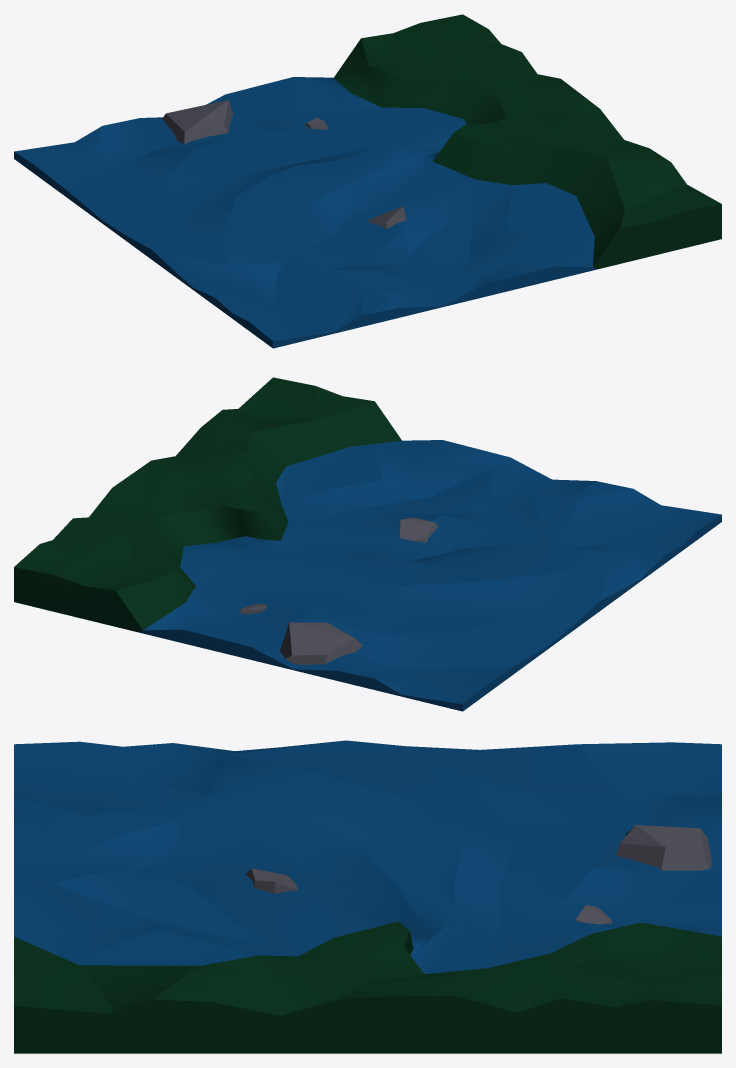
Rendered from Water_Edge_R.fbx.
3 renders of one model, top to bottom at view 1: azimuth 30°, elevation 25°; view 2: azimuth 150°, elevation 25°; view 3: azimuth 270°, elevation 25°, orthographic. The views are drawn at different scales.
Visible parts, largest first — view 1: Water_Edge_R; view 2: Water_Edge_R; view 3: Water_Edge_R.
Boxes of the visible parts, box(x1,y1,x2,y2) form: Water_Edge_R: box(14, 14, 721, 348); Water_Edge_R: box(14, 377, 721, 711); Water_Edge_R: box(14, 740, 721, 1053).
Size of the model in its own units: 147 by 13.25 by 147.
